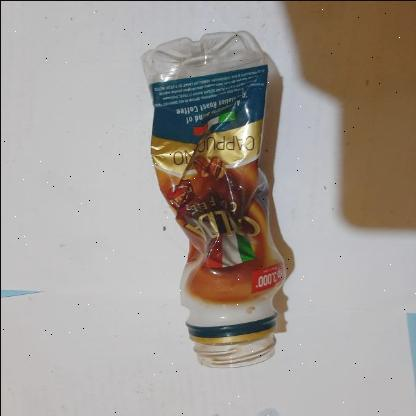Plastic Bottle: (140, 31, 286, 368)
